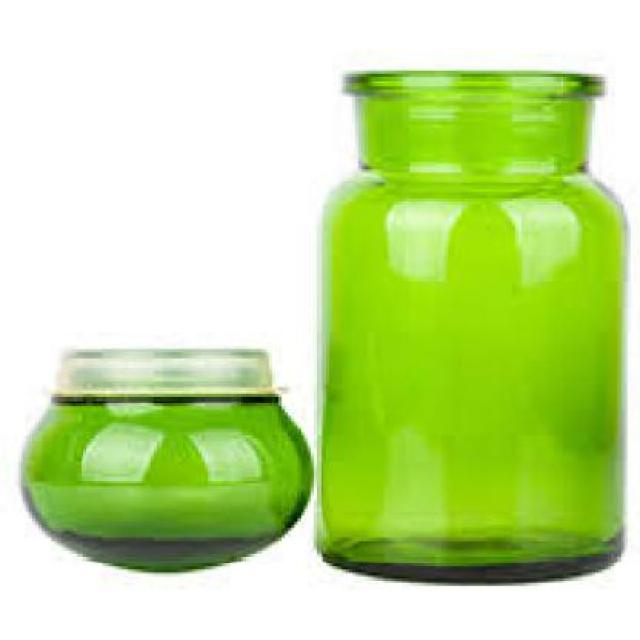kaca: (310, 71, 624, 583), (15, 346, 308, 569)
